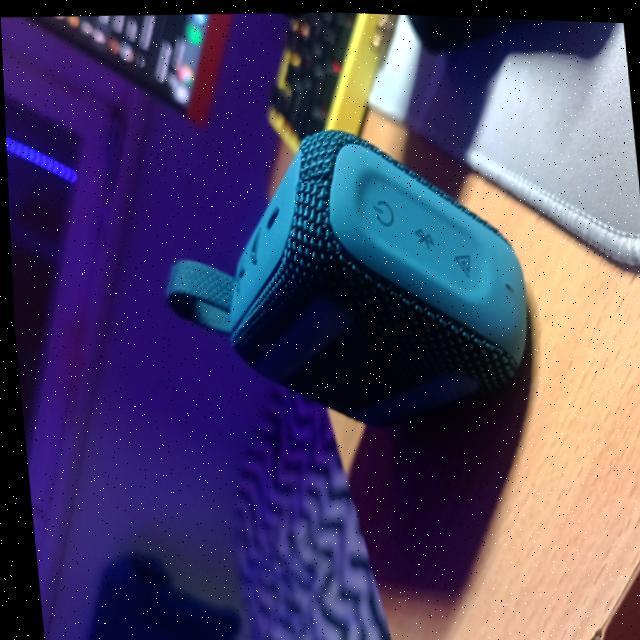column JBL: (142, 112, 555, 640)
